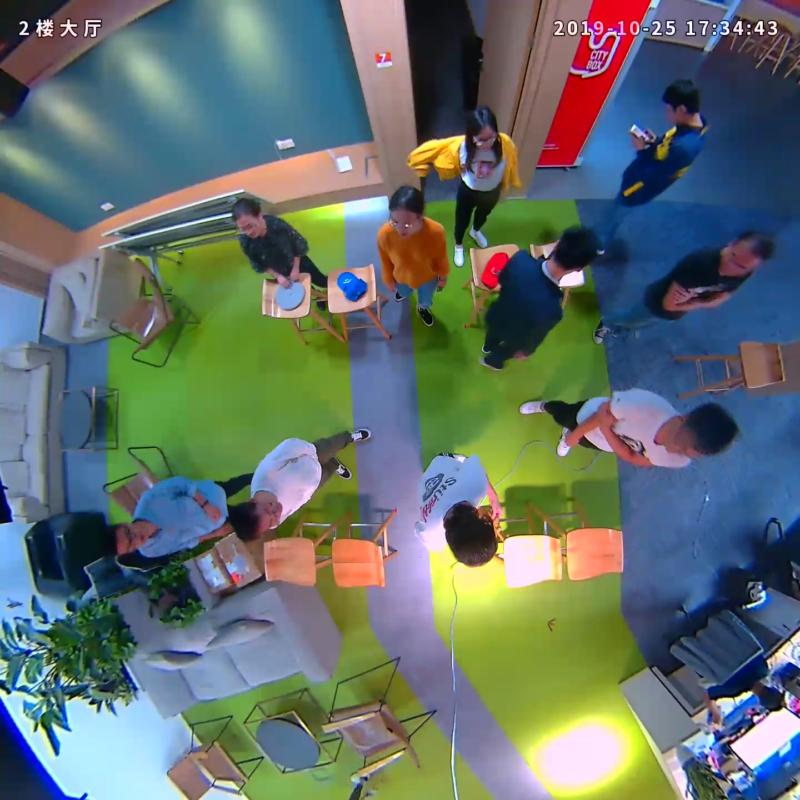head: (669, 399, 745, 465), (434, 502, 503, 572), (226, 491, 287, 547), (548, 222, 602, 281), (718, 227, 775, 279), (655, 77, 714, 126), (92, 520, 153, 567), (383, 183, 428, 236), (222, 194, 272, 241), (462, 105, 503, 153)
